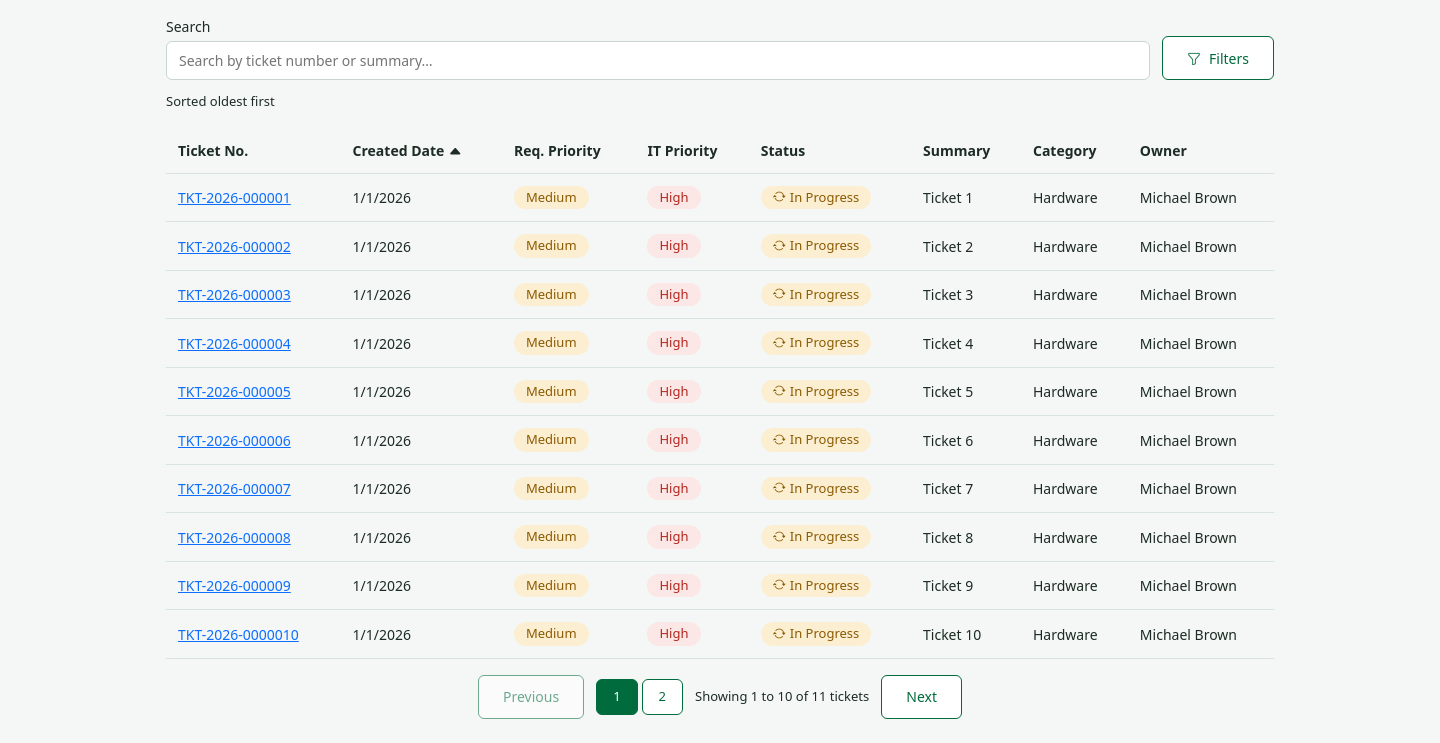
Test case: Ticket Queue interactions › AC-24: pagination shows "Showing X to Y of Z" and Next loads page 2
(page scrolled)
Check: the text "Showing 1 to 10 of 11 tickets" is shown, box top-left (695, 687), bottom-right (869, 706)
What coordinates should you click on to do the following:
click the button "Next"
I would click on:
 (922, 697)
Its box is top-left (881, 675), bottom-right (962, 719).
(page scrolled)
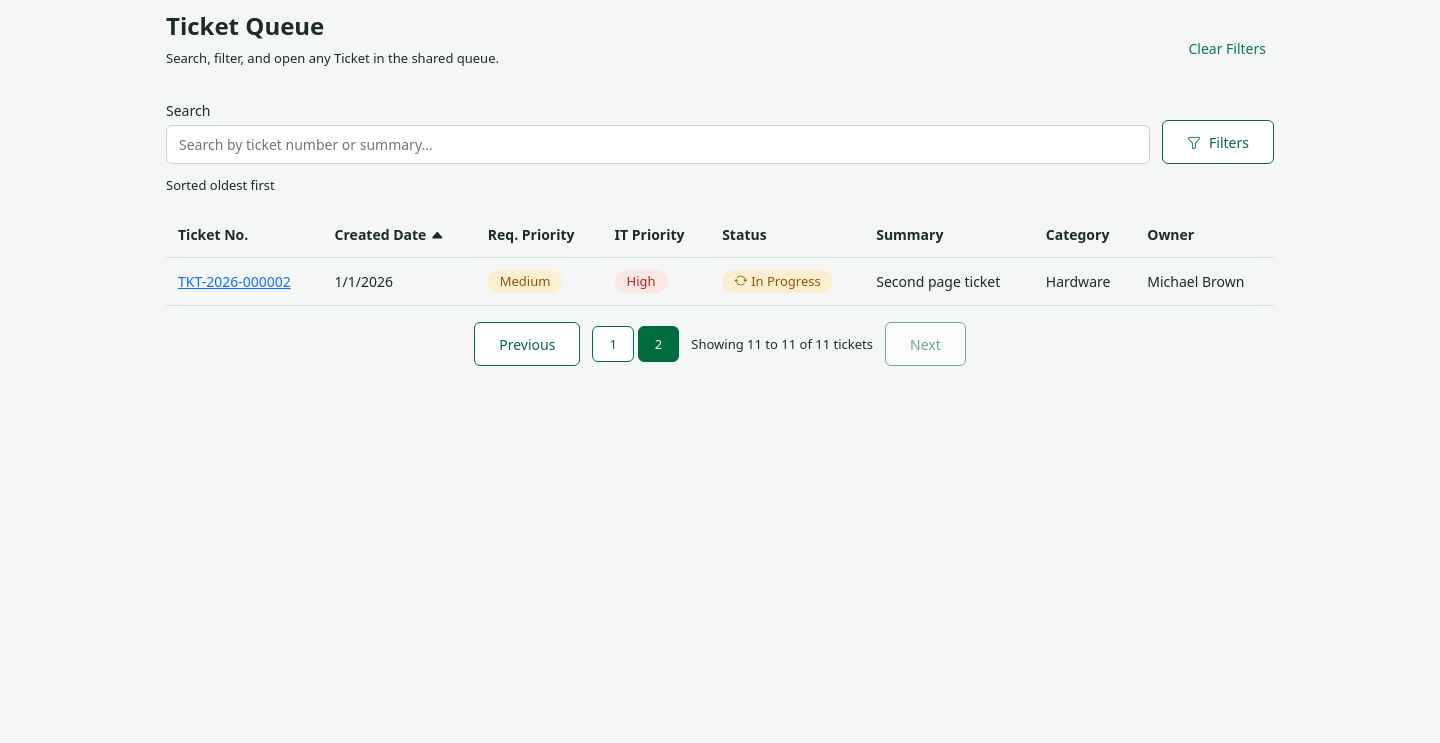
Check: the text "Showing 11 to 11 of 11 tickets" is shown, box top-left (691, 334), bottom-right (873, 354)
Check: the text "Second page ticket" is shown, box top-left (864, 257), bottom-right (1034, 306)
